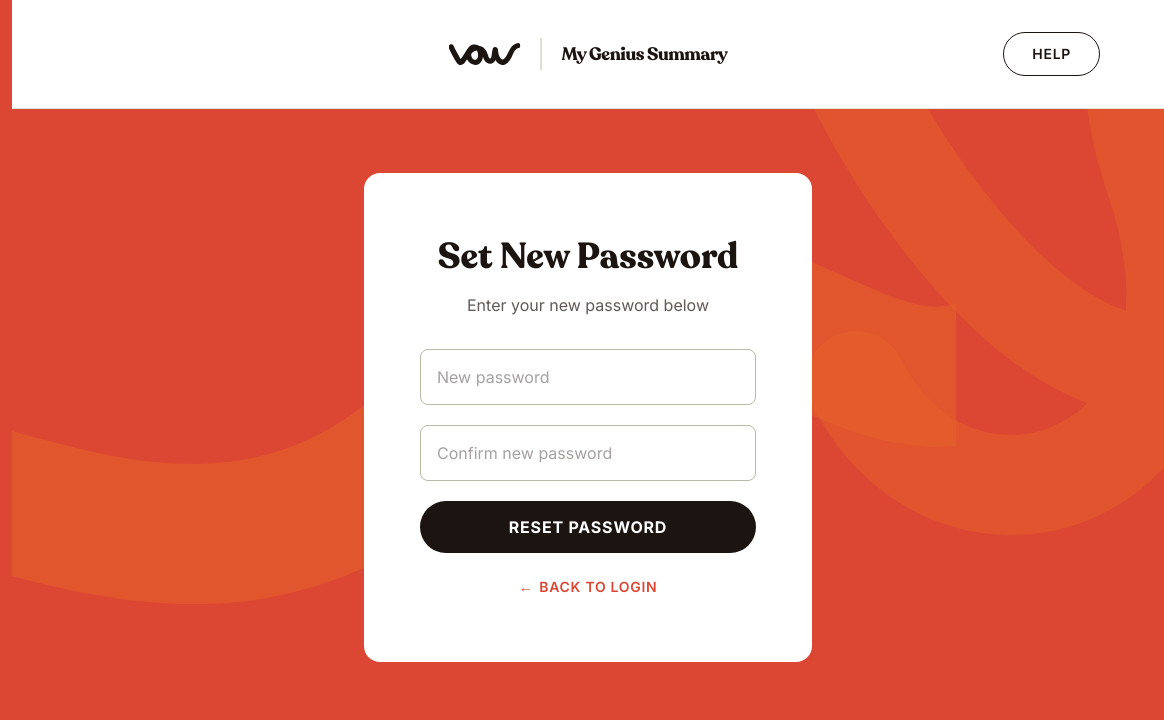
PasswordResetPage › validates minimum length
Type "short" into the password field labelled "New password". click: (588, 377)
box: x1=420 y1=349 x2=756 y2=405
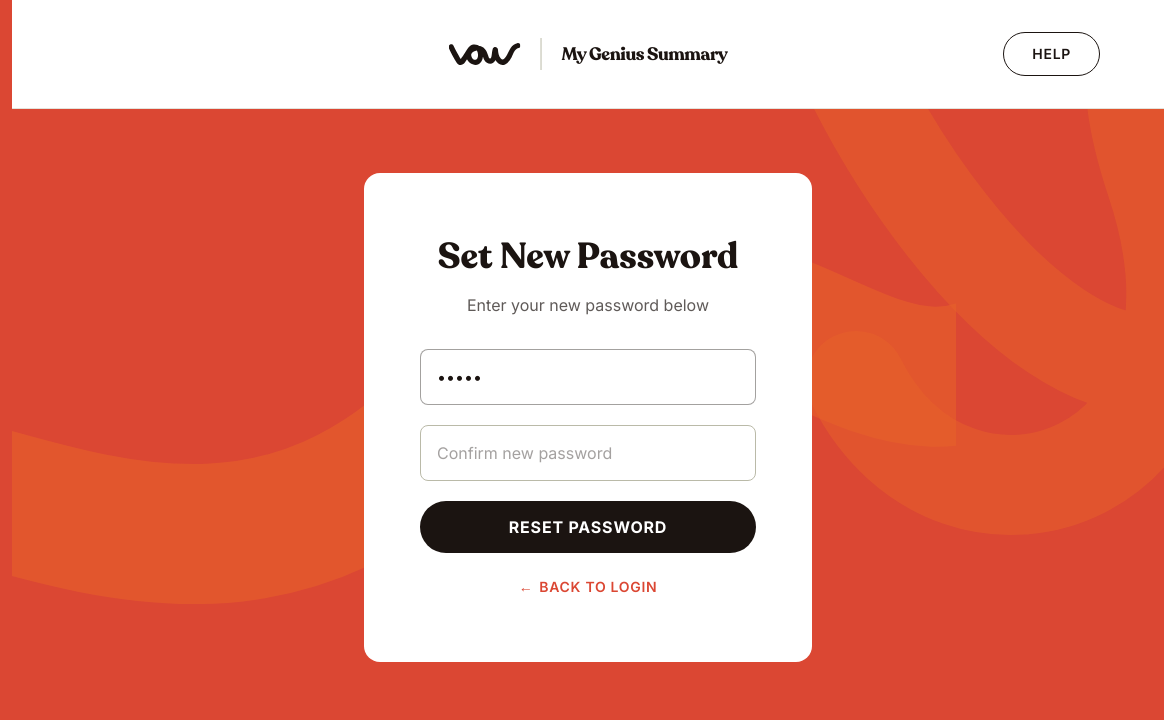
Type "short" into the password field labelled "Confirm new password". click: (588, 453)
box: x1=420 y1=425 x2=756 y2=481
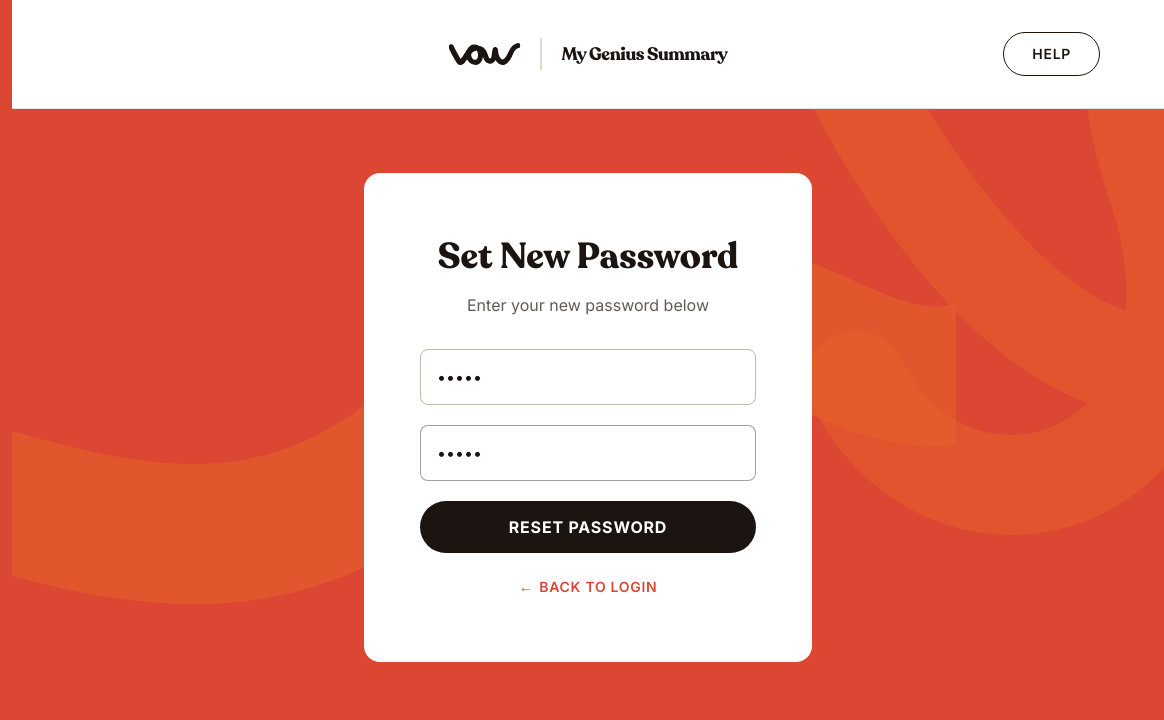
Click the button "Reset Password". click: (588, 527)
box: x1=420 y1=501 x2=756 y2=553
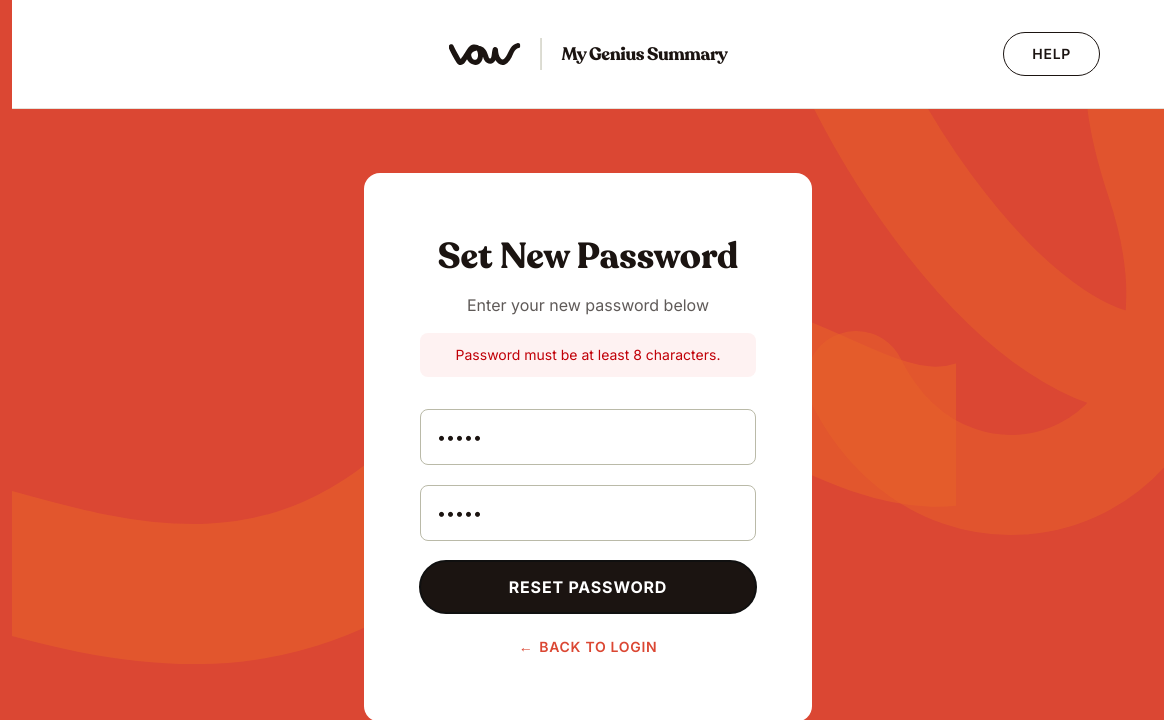
Expected: the text "Password must be at least 8 characters." is shown, x1=420 y1=333 x2=756 y2=377
